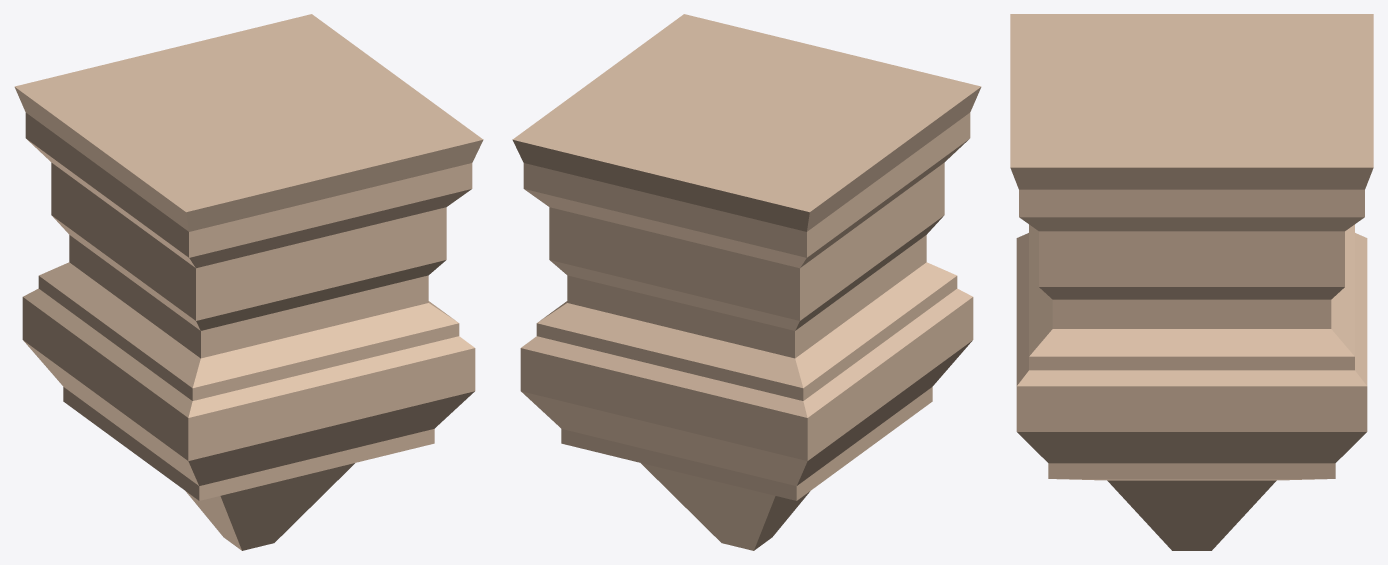
File: BC_InsidePillar_B_02.fbx
The picture shows the model from 3 angles, left to right: view 1: azimuth 30°, elevation 25°; view 2: azimuth 150°, elevation 25°; view 3: azimuth 270°, elevation 25°; orthographic projection. The views are drawn at different scales.
Parts seen in each view (by area): view 1: BC_InsidePillar_B_02; view 2: BC_InsidePillar_B_02; view 3: BC_InsidePillar_B_02.
Boxes of the visible parts, x1,y1,x2,y2 form: BC_InsidePillar_B_02: (14, 14, 483, 550); BC_InsidePillar_B_02: (512, 14, 981, 550); BC_InsidePillar_B_02: (1010, 14, 1373, 550).
Bounding box in the file's own units: 249 × 342 × 249.
